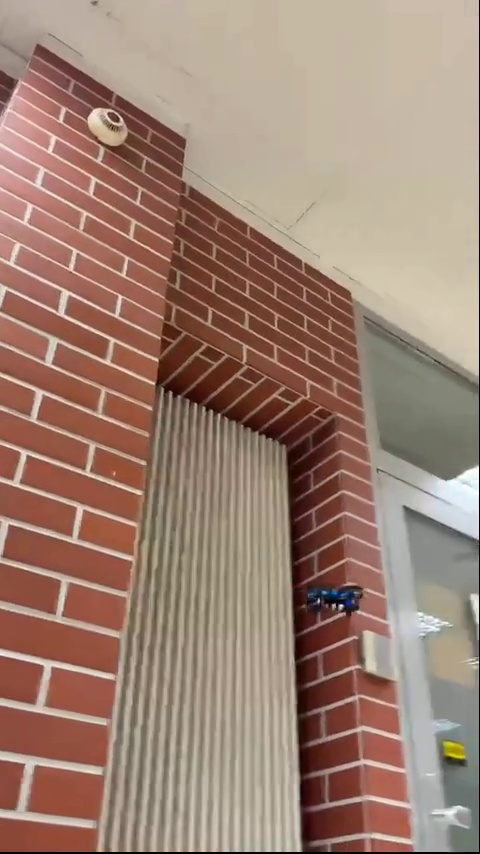drone: (298, 583, 364, 618)
